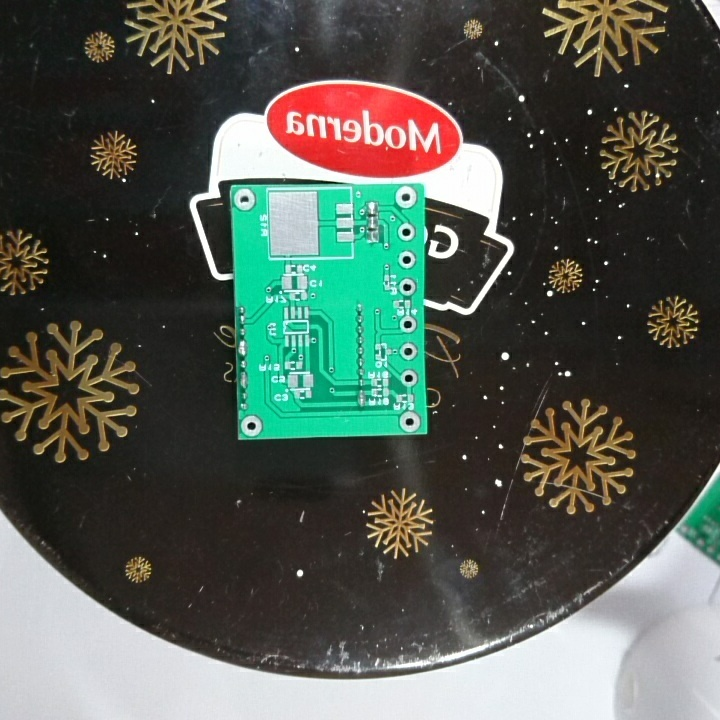F: (232, 186, 257, 213), (394, 184, 420, 209), (239, 413, 264, 438), (397, 409, 422, 433), (395, 220, 419, 243), (398, 313, 420, 337), (398, 340, 419, 363), (399, 366, 420, 389), (396, 248, 417, 270), (397, 276, 418, 297)
P: (237, 336, 251, 359), (238, 370, 251, 390), (356, 389, 368, 408)
